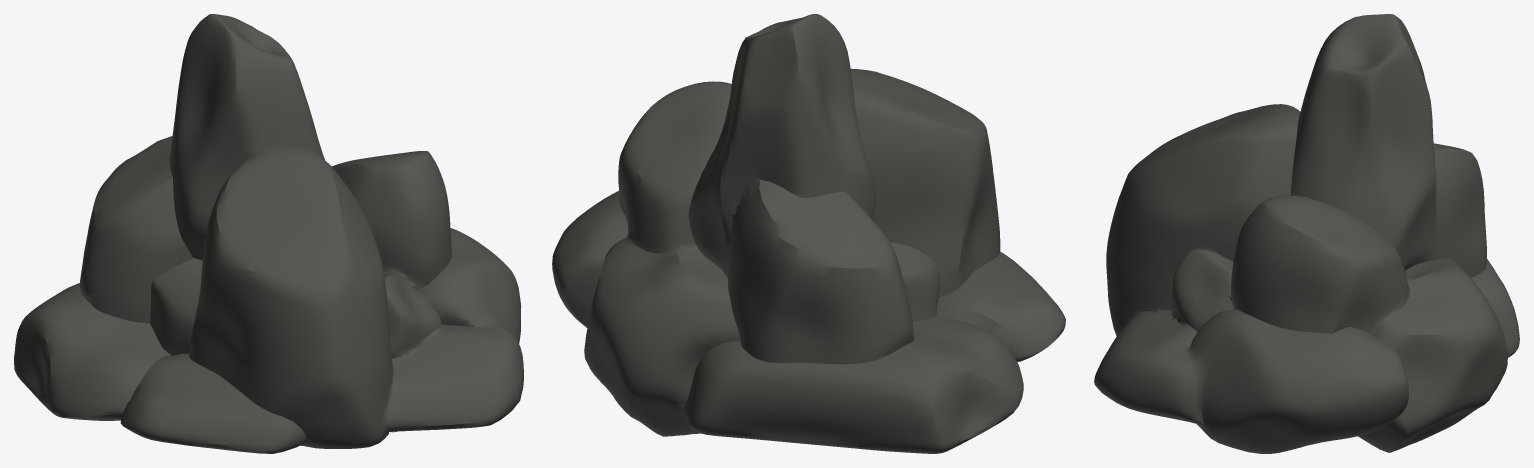
Rendered from Rocks-IFU6cm2Xow.glb.
The picture shows the model from 3 angles, left to right: view 1: azimuth 30°, elevation 25°; view 2: azimuth 150°, elevation 25°; view 3: azimuth 270°, elevation 25°; orthographic projection. The views are drawn at different scales.
Parts seen in each view (by area): view 1: Environment_Cliff2; view 2: Environment_Cliff2; view 3: Environment_Cliff2.
Part boxes in pixels (x1,y1,x2,y2): Environment_Cliff2: [14, 14, 523, 453]; Environment_Cliff2: [552, 14, 1065, 453]; Environment_Cliff2: [1094, 14, 1519, 453].
Bounding box in the file's own units: 8 × 6.91 × 7.11.
Materials: 1 (1 with a texture image).
